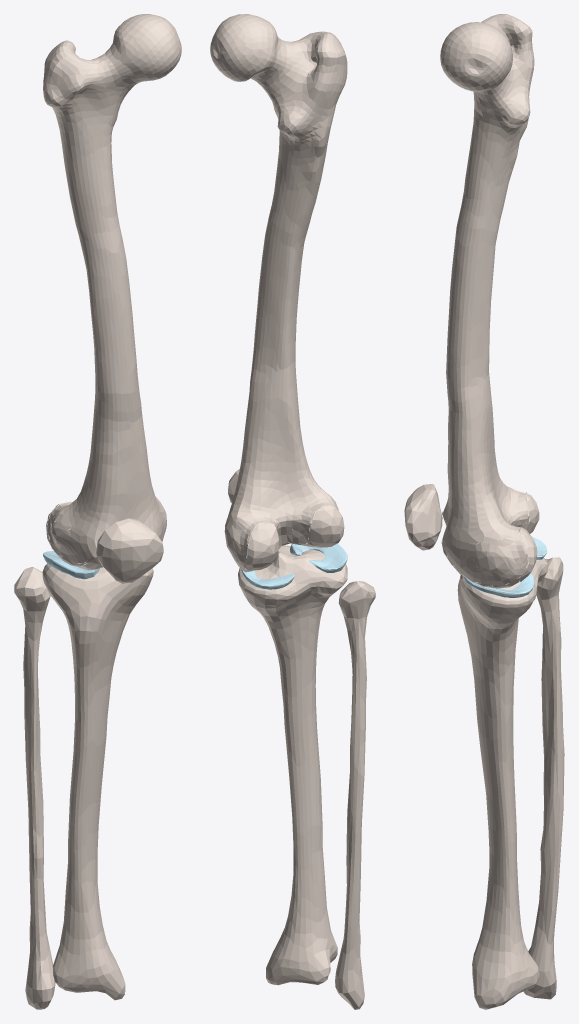
Rendered from VH_F_Knee_R_0.4.glb.
The picture shows the model from 3 angles, left to right: view 1: azimuth 30°, elevation 25°; view 2: azimuth 210°, elevation 25°; view 3: azimuth 270°, elevation 25°; orthographic projection. The views are drawn at different scales.
Visible parts, largest first — view 1: VH_F_femur_R, VH_F_tibia_R, VH_F_fibula_R, VH_F_patella_R, VH_F_meniscus_R; view 2: VH_F_femur_R, VH_F_tibia_R, VH_F_fibula_R, VH_F_meniscus_R, VH_F_medial_condyle_of_right_femur_inf, VH_F_lateral_condyle_of_femur_inf_R, VH_F_anterior_cruciate_enthesis_R, VH_F_posterior_cruciate_enthesis_R; view 3: VH_F_femur_R, VH_F_tibia_R, VH_F_fibula_R, VH_F_patella_R, VH_F_meniscus_R, VH_F_medial_perichondular_surface_R, VH_F_medial_condyle_of_right_femur_inf, VH_F_articular_cartilage_of_knee_R, VH_F_medial_epicondylar_enthesis_R.
Part boxes in pixels (x1,y1,x2,y2): VH_F_femur_R: (43,14,181,562); VH_F_tibia_R: (42,562,153,1000); VH_F_fibula_R: (14,567,55,1009); VH_F_patella_R: (96,518,163,583); VH_F_meniscus_R: (43,551,99,579); VH_F_femur_R: (210,14,347,566); VH_F_tibia_R: (238,545,347,985); VH_F_fibula_R: (335,581,375,1009); VH_F_meniscus_R: (241,539,347,589); VH_F_medial_condyle_of_right_femur_inf: (245,523,278,570); VH_F_lateral_condyle_of_femur_inf_R: (309,506,344,546); VH_F_anterior_cruciate_enthesis_R: (292,514,311,543); VH_F_posterior_cruciate_enthesis_R: (275,515,292,546); VH_F_femur_R: (440,14,534,584); VH_F_tibia_R: (457,557,547,1009); VH_F_fibula_R: (523,557,564,999); VH_F_patella_R: (404,484,442,550); VH_F_meniscus_R: (462,537,547,597); VH_F_medial_perichondular_surface_R: (473,550,509,575); VH_F_medial_condyle_of_right_femur_inf: (520,527,537,581); VH_F_articular_cartilage_of_knee_R: (441,492,529,587); VH_F_medial_epicondylar_enthesis_R: (475,542,516,569).
Bounding box in the file's own units: 0.1018 × 0.772 × 0.1106.
